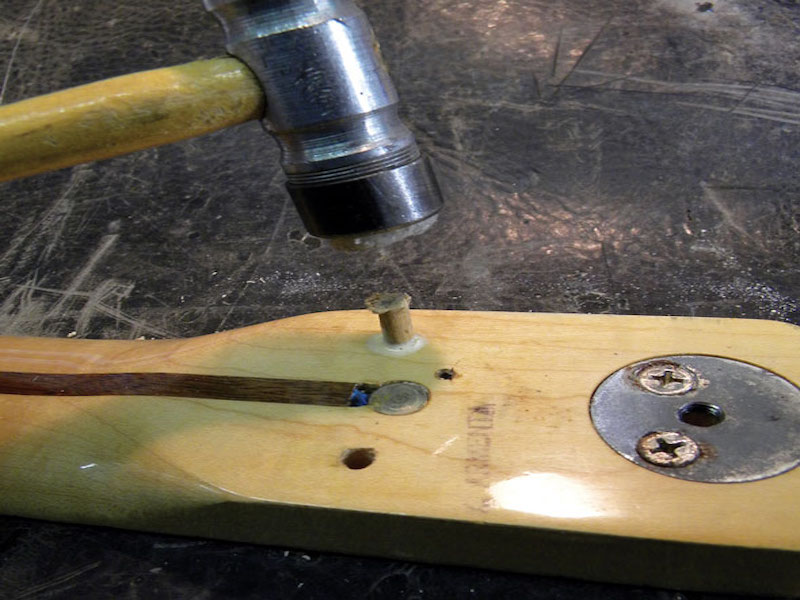hole: (673, 398, 730, 432), (340, 446, 379, 473)
screw: (637, 430, 702, 471), (632, 360, 698, 397)
